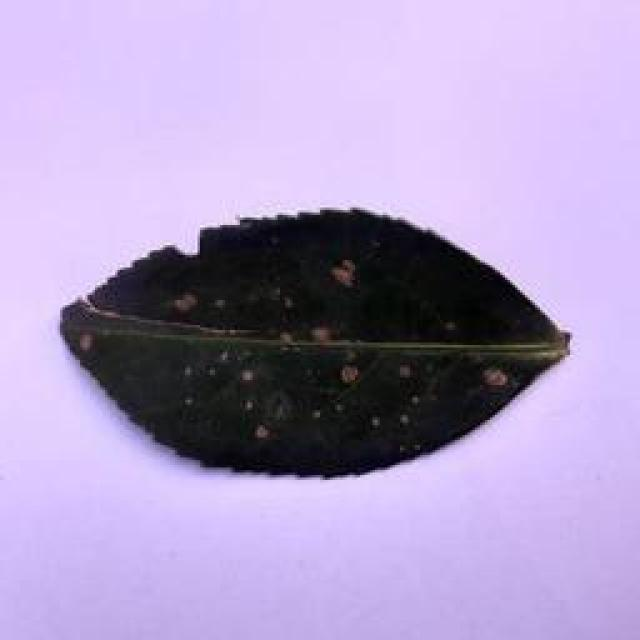Algal Leaf Spot: (51, 201, 580, 487)
